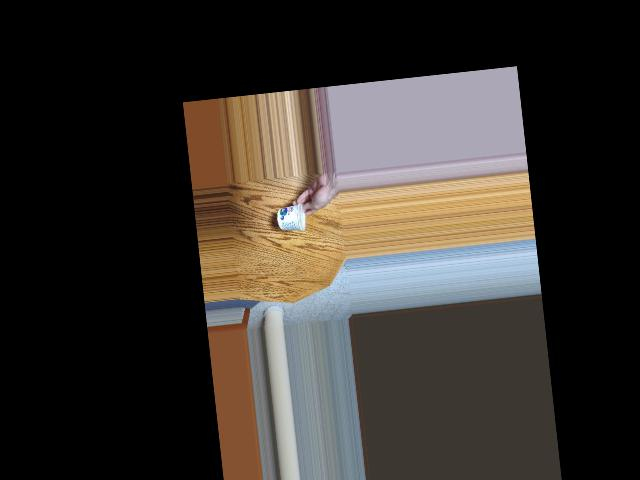cotage: (273, 204, 309, 240)
